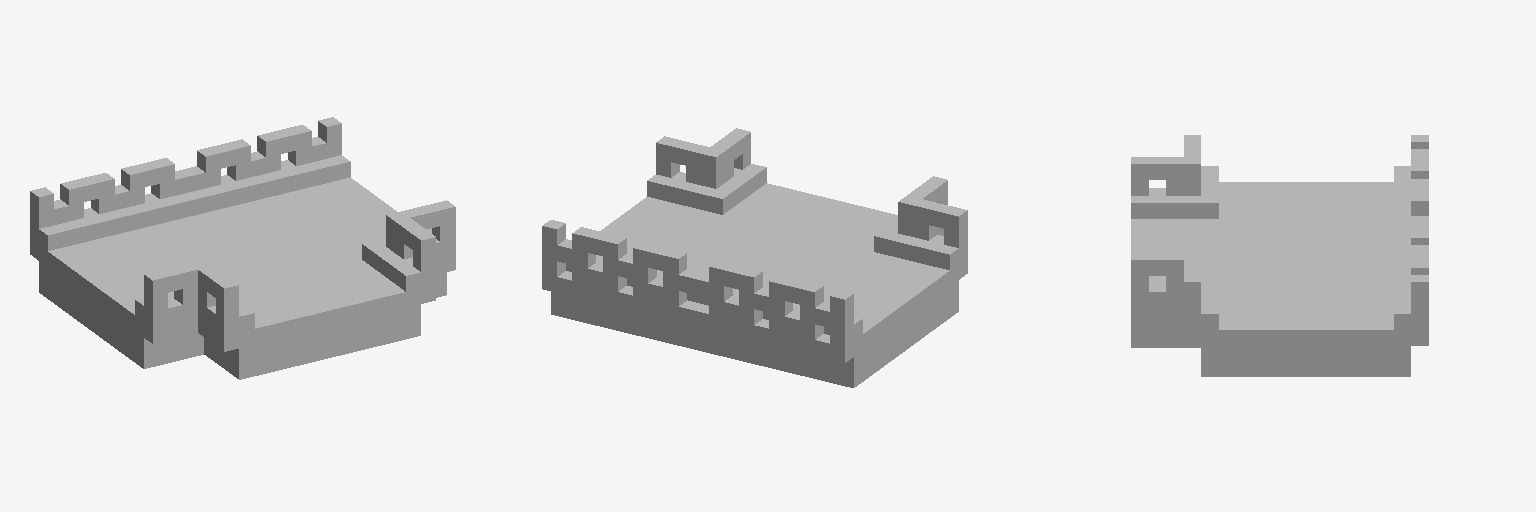
File: wall_1110.obj
3 views of the same model, side by side, from view 1: azimuth 30°, elevation 25°; view 2: azimuth 150°, elevation 25°; view 3: azimuth 270°, elevation 25° (orthographic).
Parts seen in each view (by area): view 1: wall_1110; view 2: wall_1110; view 3: wall_1110.
Part boxes in pixels (x1,y1,x2,y2): wall_1110: (30,117,455,379); wall_1110: (542,128,967,387); wall_1110: (1131,135,1428,376).
Size of the model in its own units: 20 by 6 by 17.